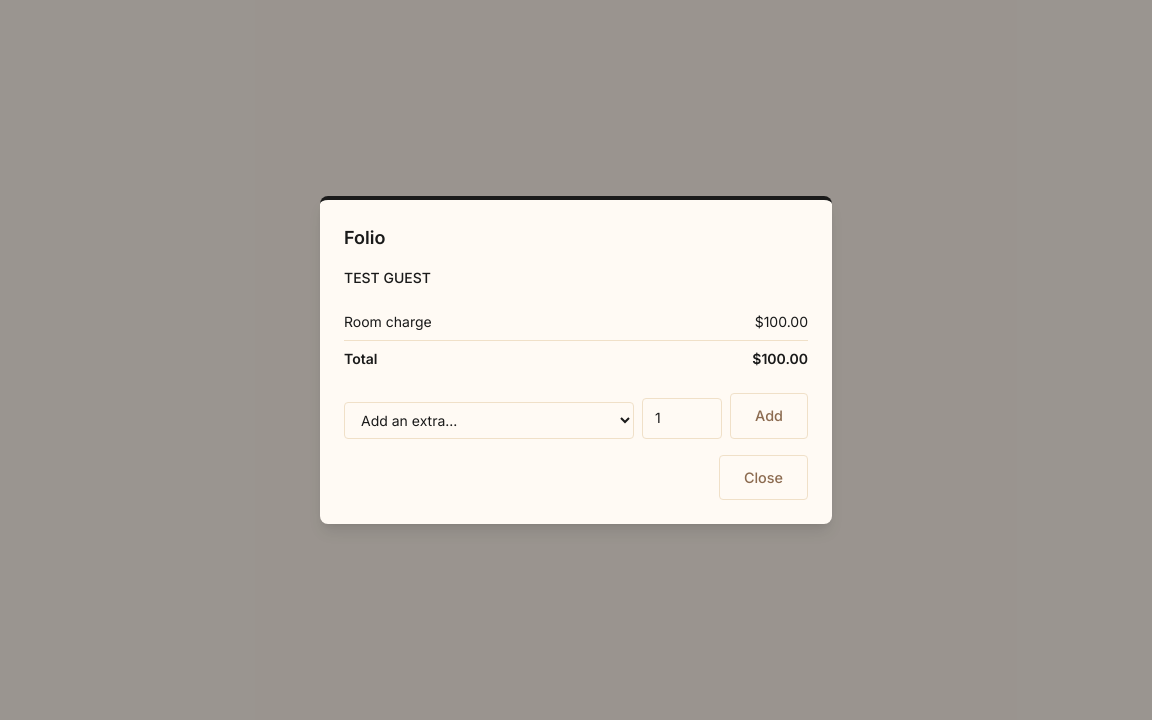
FolioModal - open folio, adding extras › prompts for a terminal/record-only charge when the card-on-file charge fails with 409
Expected: the text "Room charge" is shown, [344,304,628,340]
Select "Late Checkout ($15.00)" in the dropdown: (489, 420) [344,402,634,438]
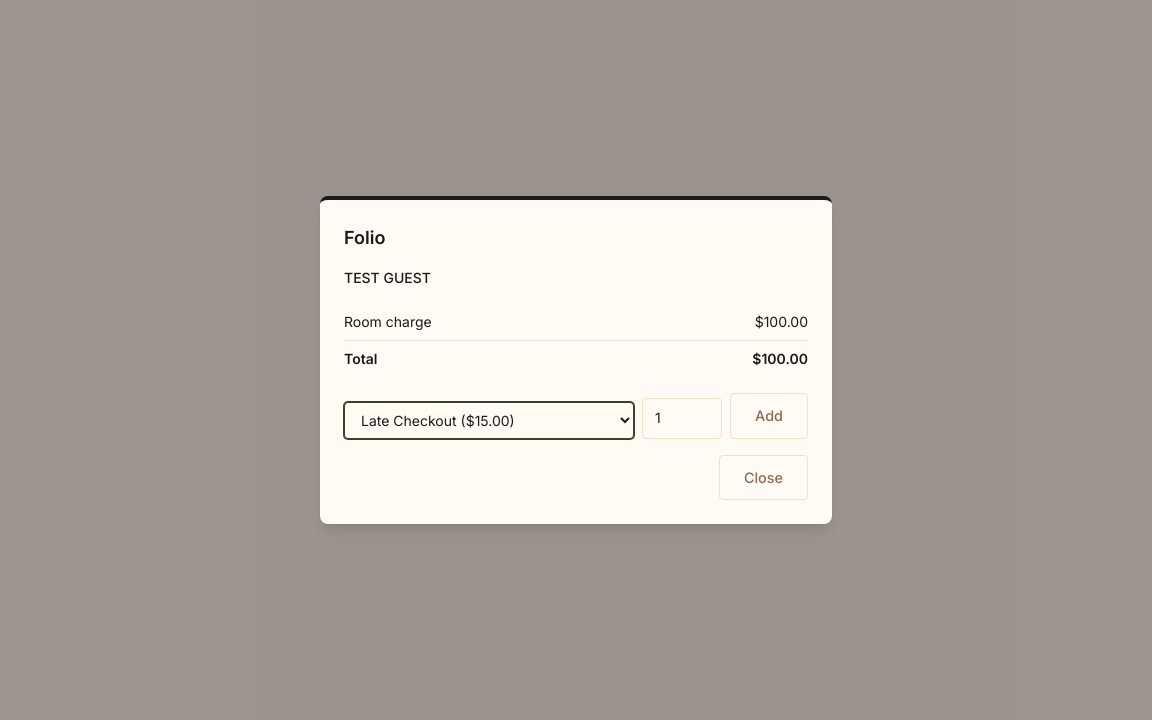
Click the button "Add": click(769, 416) [730,393,808,438]
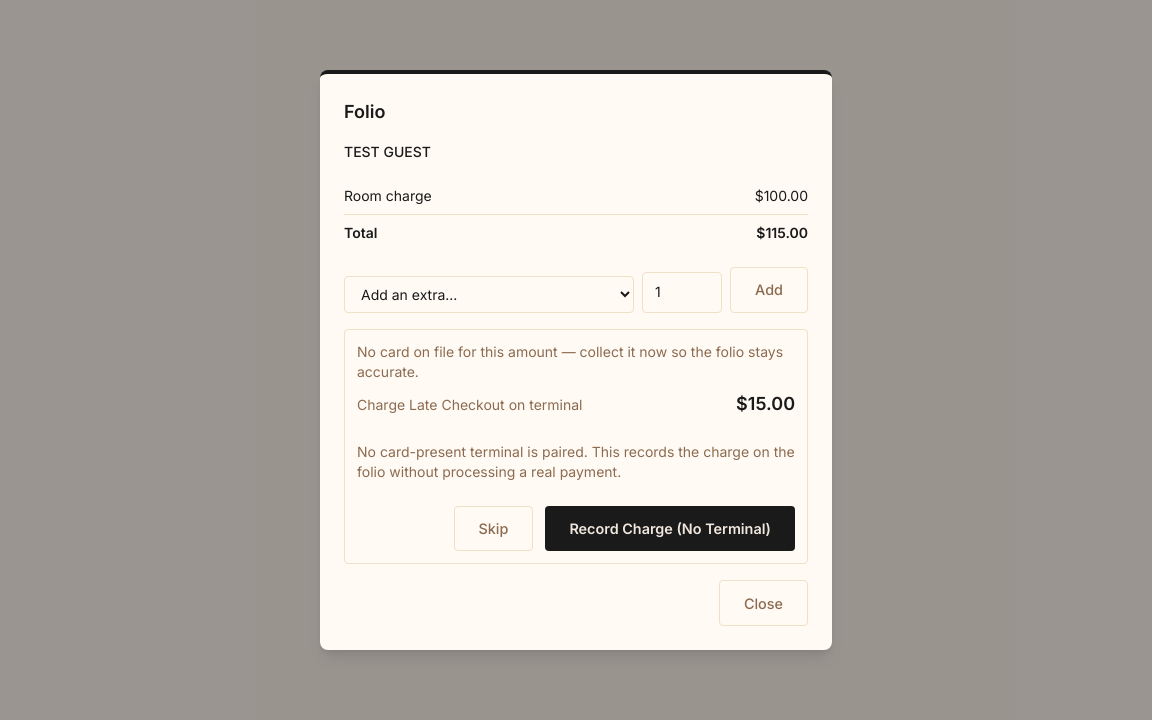
Expected: the text "No card on file for this amount — collect it now so the folio stays accurate." is shown, [357,342,795,382]
Expected: the button "Record Charge (No Terminal)" is shown, [545,506,795,551]
